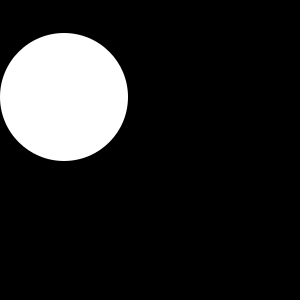rectangle: (0, 33, 128, 161)
